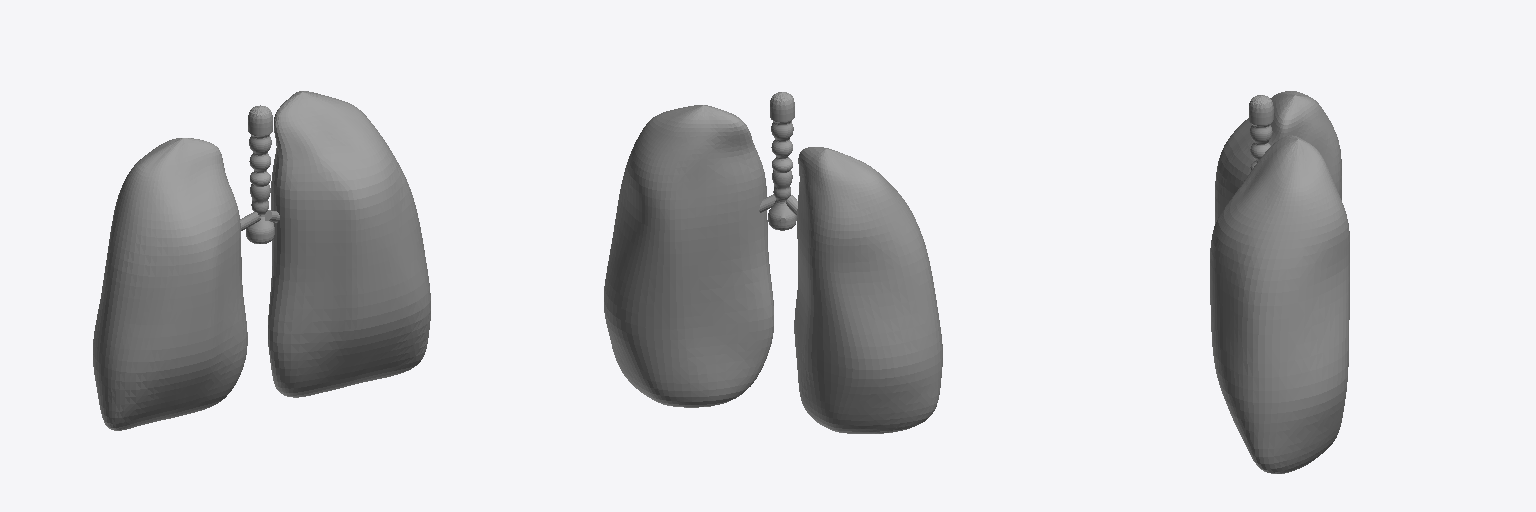
The model's file is poumon_transparent.obj.
3 renders of one model, left to right at view 1: azimuth 30°, elevation 25°; view 2: azimuth 150°, elevation 25°; view 3: azimuth 270°, elevation 25°, orthographic.
Visible parts, largest first — view 1: Sphere.002, Sphere.001, Cylinder; view 2: Sphere.002, Sphere.001, Cylinder; view 3: Sphere.002, Sphere.001, Cylinder.
Part boxes in pixels (x1,y1,x2,y2): Sphere.002: (268, 91, 430, 397); Sphere.001: (93, 138, 247, 430); Cylinder: (246, 105, 274, 243); Sphere.002: (604, 105, 773, 407); Sphere.001: (794, 147, 942, 433); Cylinder: (768, 92, 796, 230); Sphere.002: (1210, 135, 1349, 473); Sphere.001: (1215, 91, 1341, 223); Cylinder: (1249, 95, 1273, 170).
Bounding box in the file's own units: 7.82 × 7.27 × 2.93.